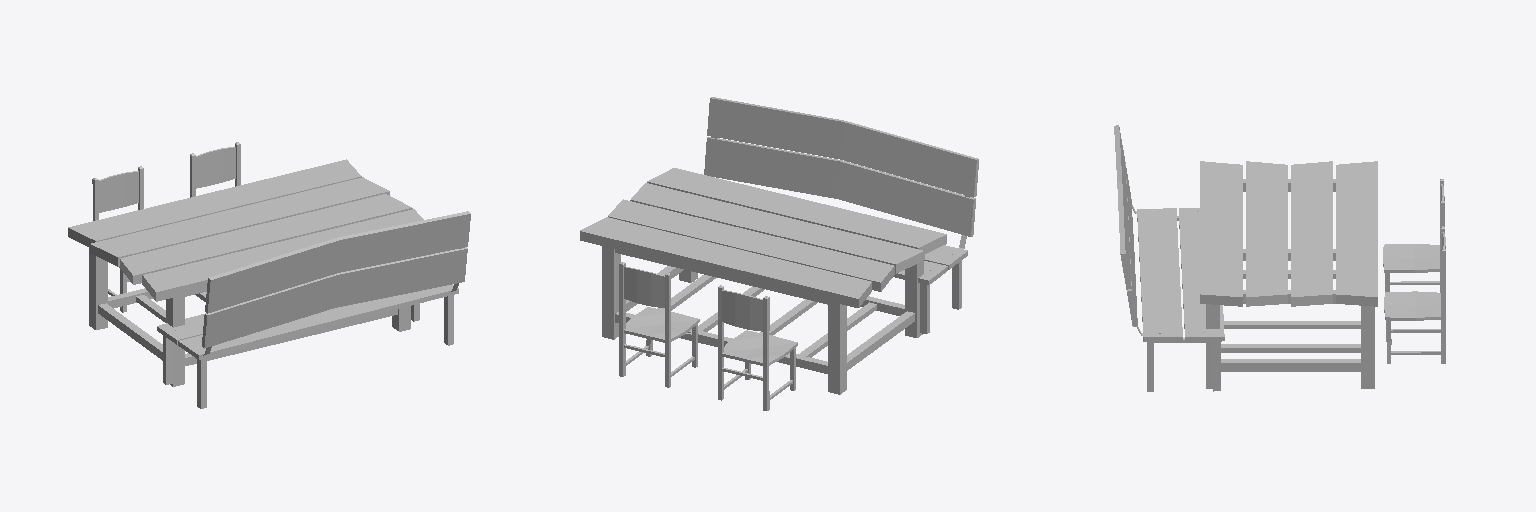
File: tables1.obj
3 renders of one model, left to right at view 1: azimuth 30°, elevation 25°; view 2: azimuth 150°, elevation 25°; view 3: azimuth 270°, elevation 25°, orthographic.
Parts seen in each view (by area): view 1: Table_1_Scene.005, Bench_3__1__Scene.007, Chair_1__2__Scene.004, Chair_1__3__Scene.004; view 2: Table_1_Scene.005, Bench_3__1__Scene.007, Chair_1__3__Scene.004, Chair_1__2__Scene.004; view 3: Table_1_Scene.005, Bench_3__1__Scene.007, Chair_1__3__Scene.004, Chair_1__2__Scene.004.
Part boxes in pixels (bbox=[...]): Table_1_Scene.005: bbox=[68, 159, 423, 386]; Bench_3__1__Scene.007: bbox=[157, 211, 470, 408]; Chair_1__2__Scene.004: bbox=[92, 166, 143, 312]; Chair_1__3__Scene.004: bbox=[190, 142, 240, 197]; Table_1_Scene.005: bbox=[580, 168, 946, 394]; Bench_3__1__Scene.007: bbox=[704, 97, 978, 333]; Chair_1__3__Scene.004: bbox=[619, 262, 699, 387]; Chair_1__2__Scene.004: bbox=[718, 285, 797, 410]; Table_1_Scene.005: bbox=[1200, 161, 1377, 388]; Bench_3__1__Scene.007: bbox=[1114, 125, 1224, 391]; Chair_1__3__Scene.004: bbox=[1384, 226, 1445, 363]; Chair_1__2__Scene.004: bbox=[1383, 179, 1444, 292].
Size of the model in its own units: 2.4 by 1.24 by 2.47.